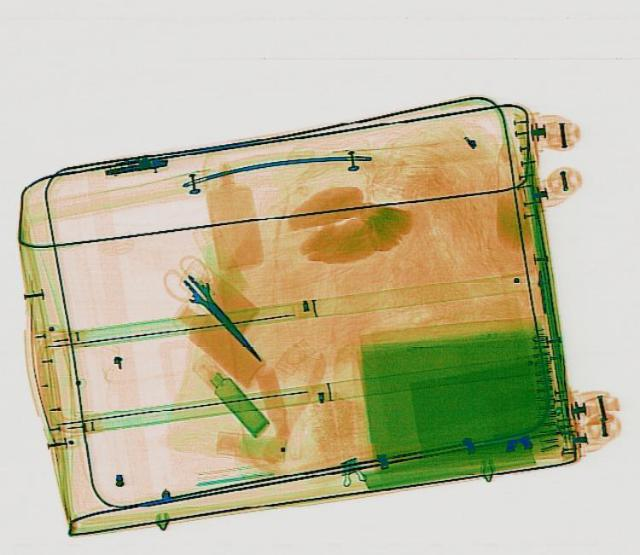Knife: (171, 267, 273, 366)
